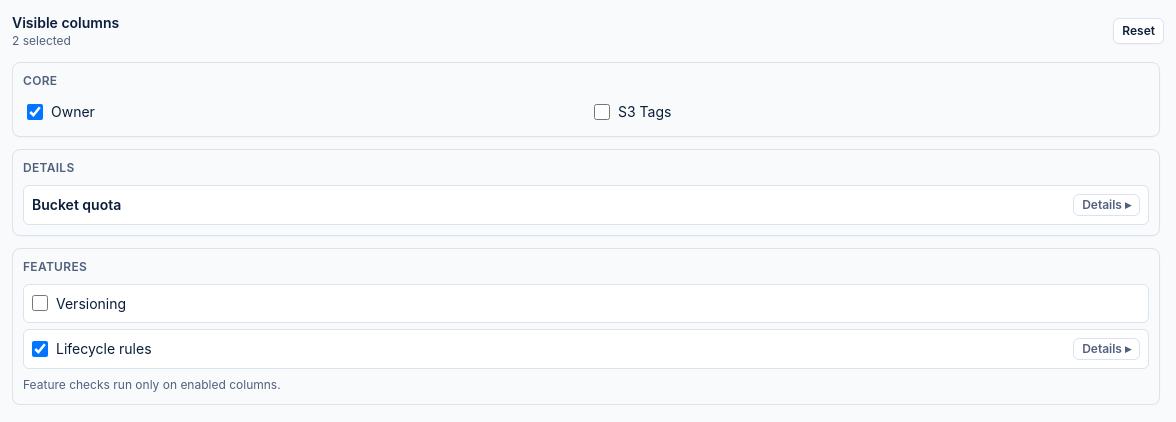
it: ColumnVisibilityPicker › toggles a main column and updates the selected counter
Expected: the text "2 selected" is shown, [12, 33, 71, 48]
Click the checkbox labelled "S3 Tags" at [602, 112], box [594, 104, 610, 120]
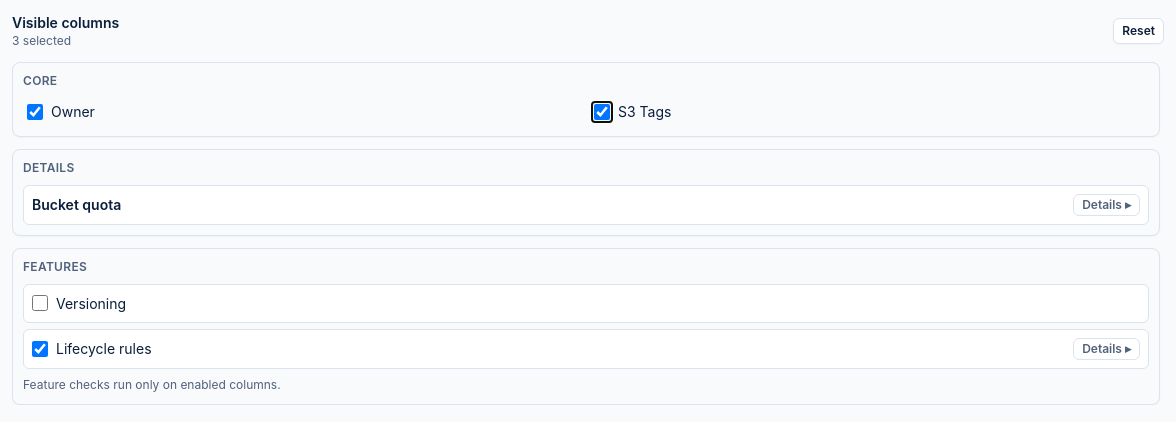
Expected: the text "3 selected" is shown, [12, 33, 71, 48]
